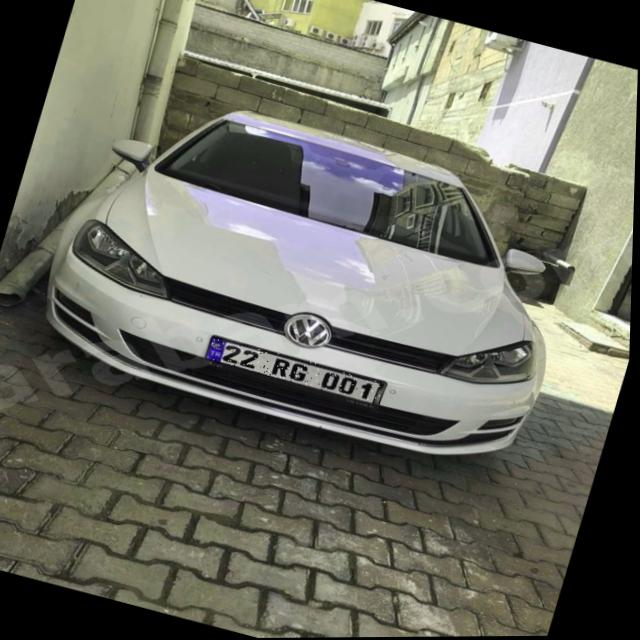license_plate: (206, 335, 388, 407)
